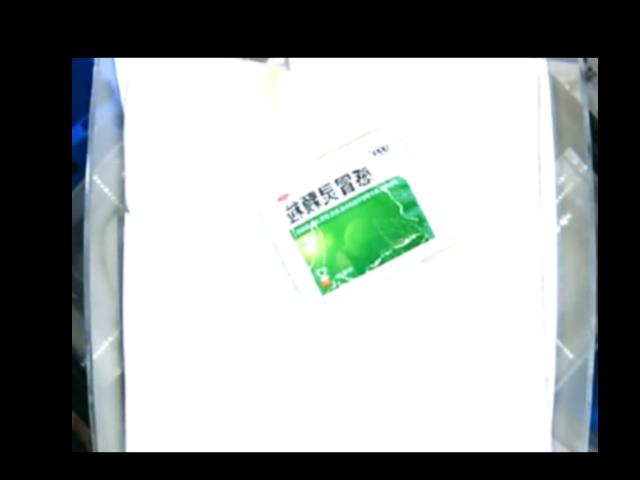Medicine: (258, 125, 456, 314)
